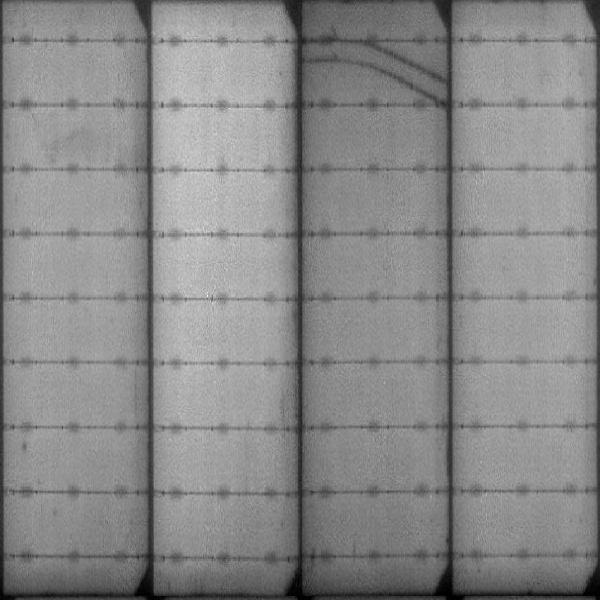scratch: (375, 53, 445, 100), (303, 49, 373, 75)
